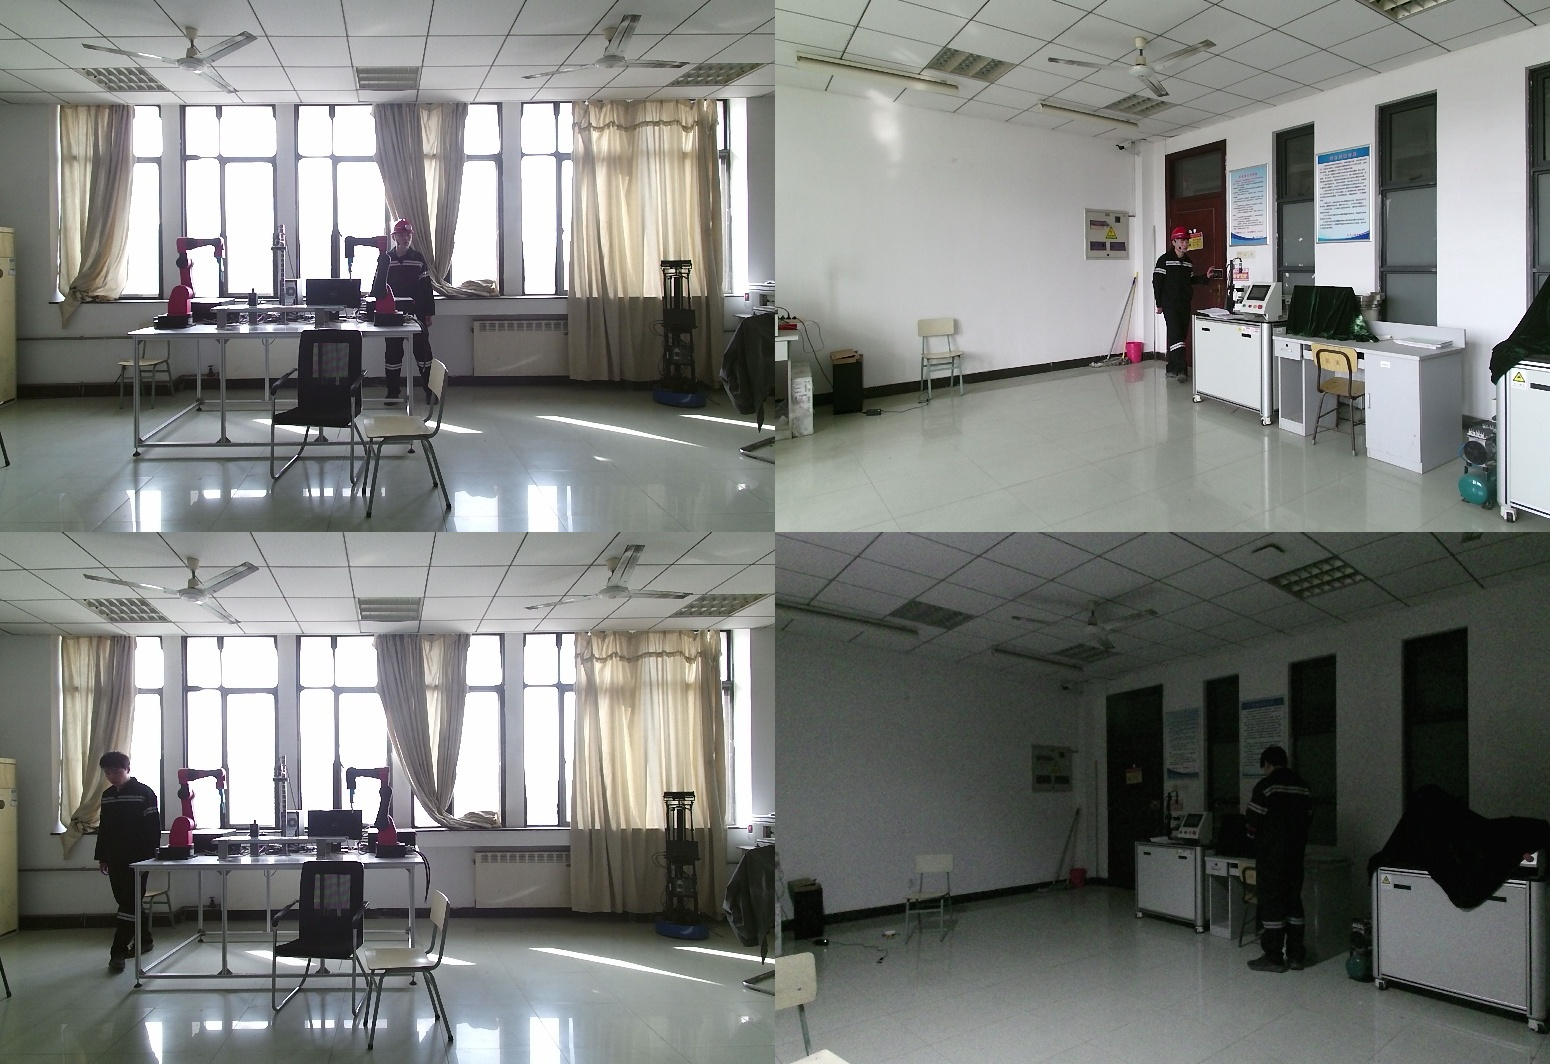person: (1244, 746, 1338, 969), (90, 752, 166, 969), (368, 219, 437, 406), (1153, 228, 1211, 386)
